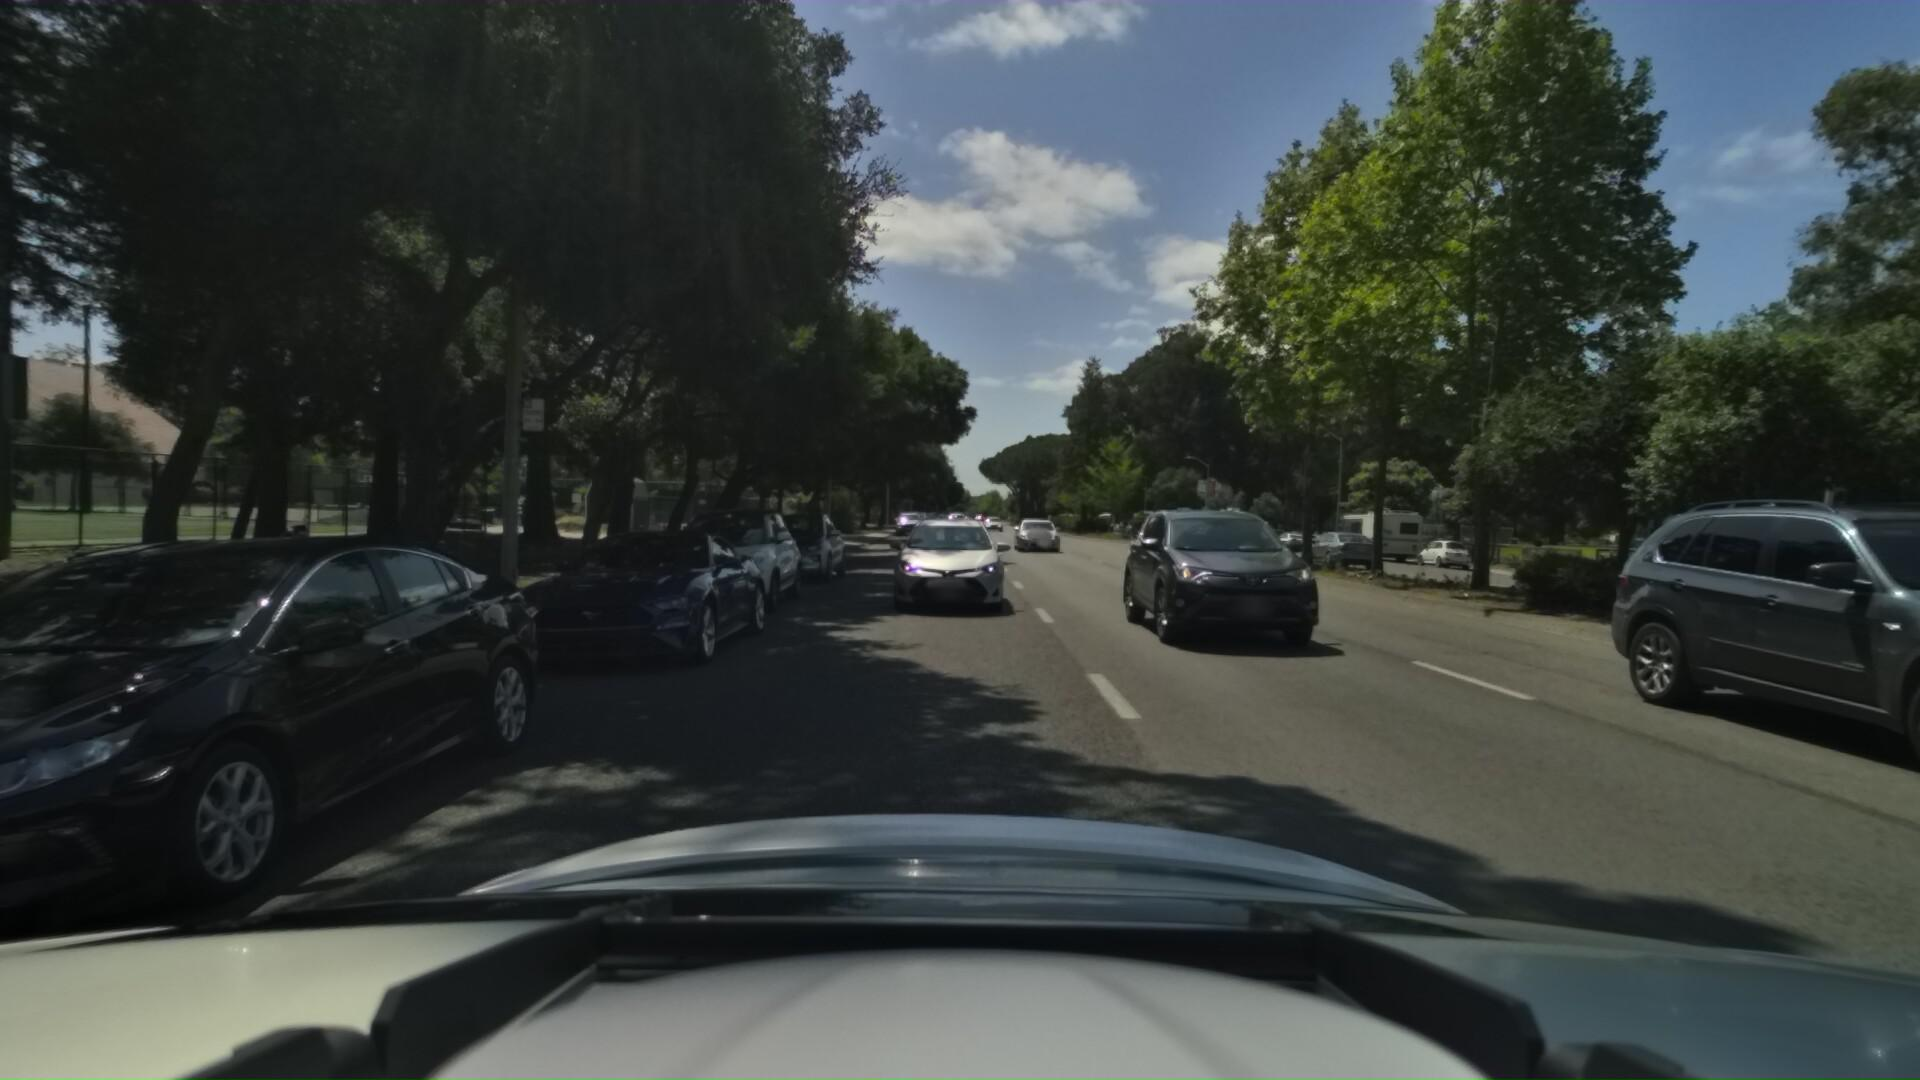car: (0, 518, 607, 1021), (1509, 488, 1920, 794), (518, 517, 791, 688), (1102, 500, 1291, 638), (655, 495, 815, 621), (881, 510, 1007, 618), (752, 506, 855, 587), (1302, 524, 1389, 571), (1403, 531, 1472, 566), (1009, 510, 1058, 551), (1288, 526, 1338, 551), (1263, 525, 1307, 549), (1246, 522, 1284, 547), (893, 506, 926, 535)
other_vehicle: (1327, 501, 1422, 560)
